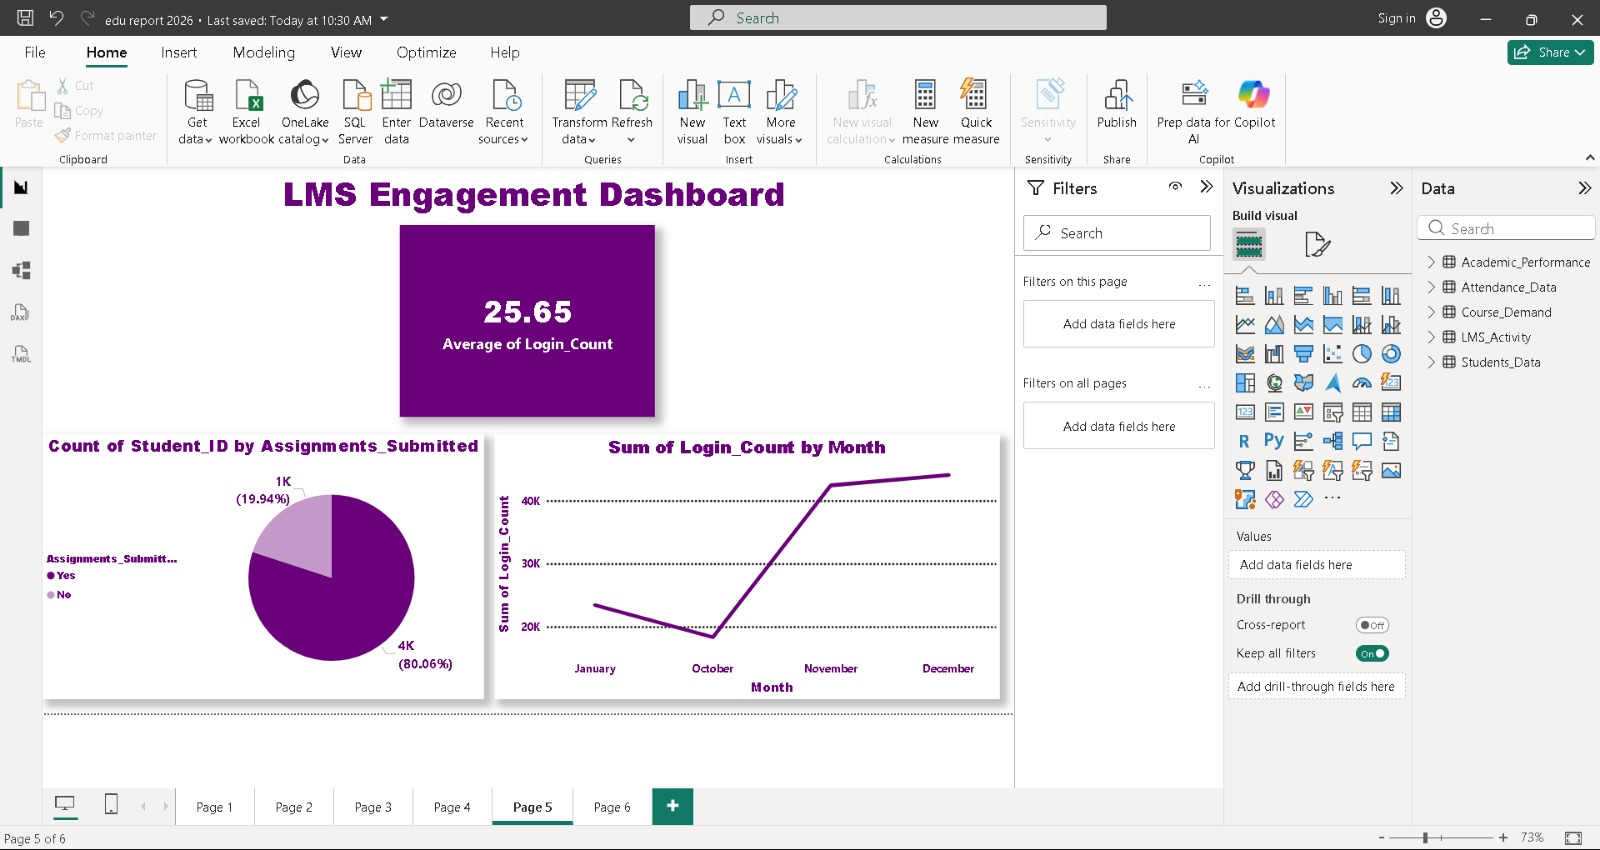

Layout of this report page (visuals, bound fields, positions):
{"tool":"powerbi","page":{"name":"Page 5","canvas":[1280,720],"ordinal":4},"visuals":[{"type":"textbox","box":[0,0,1280.3,76.8],"z":0},{"type":"card","fields":{"Values":["Avg(LMS_Activity.Login_Count)"]},"box":[470.7,76.8,336.2,252.5],"z":1000},{"type":"pieChart","fields":{"Category":["LMS_Activity.Assignments_Submitted"],"Y":["CountNonNull(LMS_Activity.Student_ID)"]},"box":[0,352.7,581.8,348.5],"z":2000},{"type":"lineChart","fields":{"Category":["LMS_Activity.Last_Login.Variation.Date Hierarchy.Month"],"Y":["Sum(LMS_Activity.Login_Count)"]},"box":[595.5,352.7,665.5,348.5],"z":3000}]}

Visuals, with their boxes on the page's 1280x720 design canvas (x1, y1, x2, y2). These are canvas units, not pixel positions in the 1600x850 screenshot, which may show the page scaled, cropped or inside an application window:
textbox: detection(0, 0, 1280, 77)
card - Avg(LMS_Activity.Login_Count): detection(471, 77, 807, 329)
pieChart - LMS_Activity.Assignments_Submitted x CountNonNull(LMS_Activity.Student_ID): detection(0, 353, 582, 701)
lineChart - LMS_Activity.Last_Login.Variation.Date Hierarchy.Month x Sum(LMS_Activity.Login_Count): detection(596, 353, 1261, 701)
